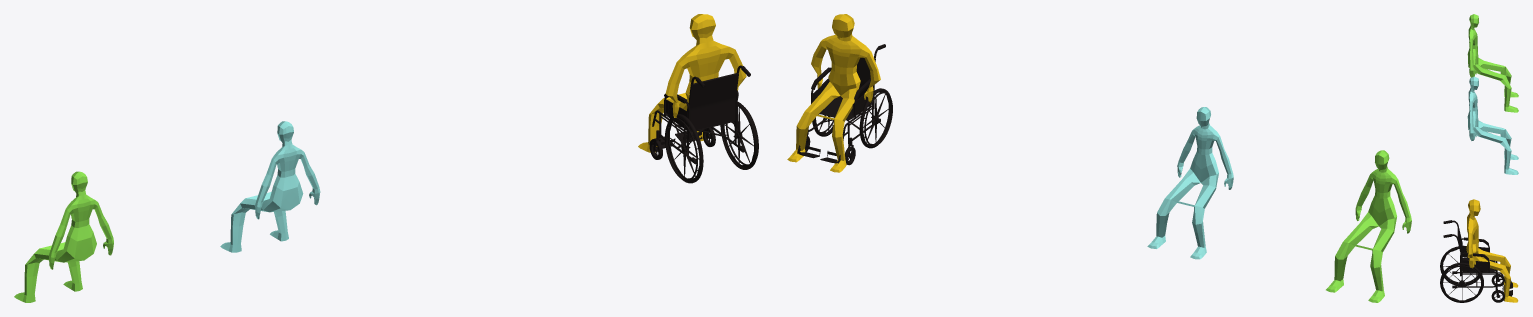
Rendered from row_2.glb.
3 views of the same model, side by side, from view 1: azimuth 30°, elevation 25°; view 2: azimuth 150°, elevation 25°; view 3: azimuth 270°, elevation 25° (orthographic). The views are drawn at different scales.
Parts seen in each view (by area): view 1: wheelchair_uv_combined_mesh_result, Student.005, Student.004, Student.003; view 2: Student.003, Student.005, Student.004, wheelchair_uv_combined_mesh_result; view 3: wheelchair_uv_combined_mesh_result, Student.003, Student.004, Student.005.
Part boxes in pixels (x1=…): wheelchair_uv_combined_mesh_result: x1=648, y1=65, x2=758, y2=183; Student.005: x1=220, y1=121, x2=320, y2=252; Student.004: x1=14, y1=171, x2=113, y2=302; Student.003: x1=638, y1=14, x2=746, y2=152; Student.003: x1=787, y1=14, x2=880, y2=172; Student.005: x1=1147, y1=107, x2=1233, y2=259; Student.004: x1=1326, y1=150, x2=1411, y2=302; wheelchair_uv_combined_mesh_result: x1=797, y1=44, x2=892, y2=165; wheelchair_uv_combined_mesh_result: x1=1440, y1=220, x2=1512, y2=302; Student.003: x1=1466, y1=199, x2=1518, y2=302; Student.004: x1=1467, y1=14, x2=1518, y2=112; Student.005: x1=1467, y1=76, x2=1518, y2=174.
Size of the model in its own units: 6.66 by 1.4 by 1.05.
